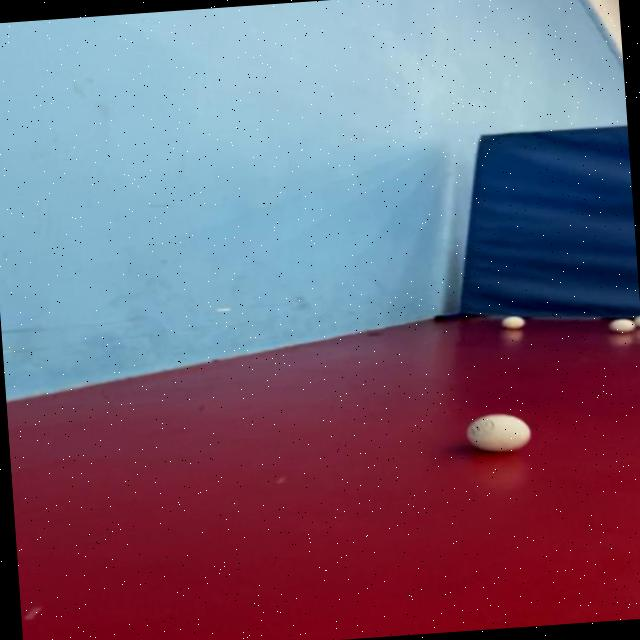ping-pong-ball: (448, 404, 543, 462), (600, 306, 640, 336), (498, 306, 532, 336)
